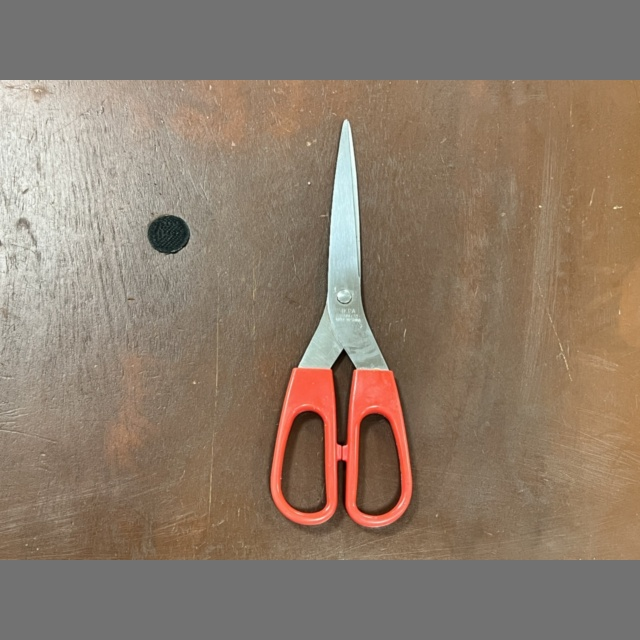scissor: (270, 120, 412, 528)
